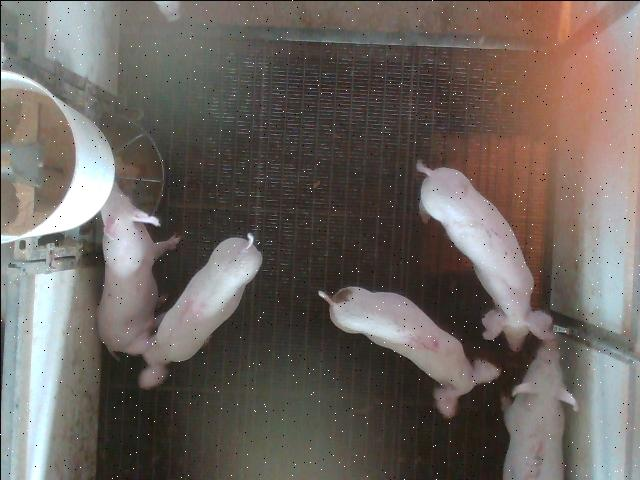pig-3: (501, 339, 576, 480)
pig-4: (124, 234, 261, 388)
pig-5: (318, 287, 499, 416)
